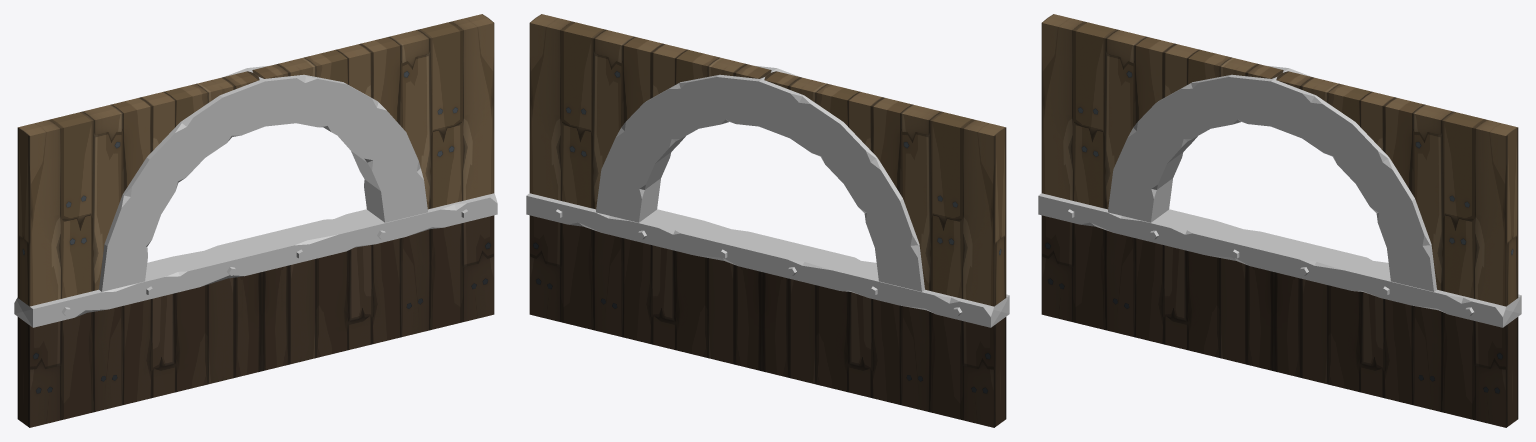
The model's file is SM_Bld_Wall_Window_Double_01.fbx.
3 renders of one model, left to right at view 1: azimuth 30°, elevation 25°; view 2: azimuth 150°, elevation 25°; view 3: azimuth 330°, elevation 25°, orthographic.
Visible parts, largest first — view 1: SM_Bld_Wall_Window_Double_01; view 2: SM_Bld_Wall_Window_Double_01; view 3: SM_Bld_Wall_Window_Double_01.
Part boxes in pixels (left/top/right/bottom): SM_Bld_Wall_Window_Double_01: left=14, top=14, right=497, bottom=427; SM_Bld_Wall_Window_Double_01: left=526, top=14, right=1009, bottom=427; SM_Bld_Wall_Window_Double_01: left=1038, top=14, right=1521, bottom=427.
Bounding box in the file's own units: 502 × 301 × 42.5.
